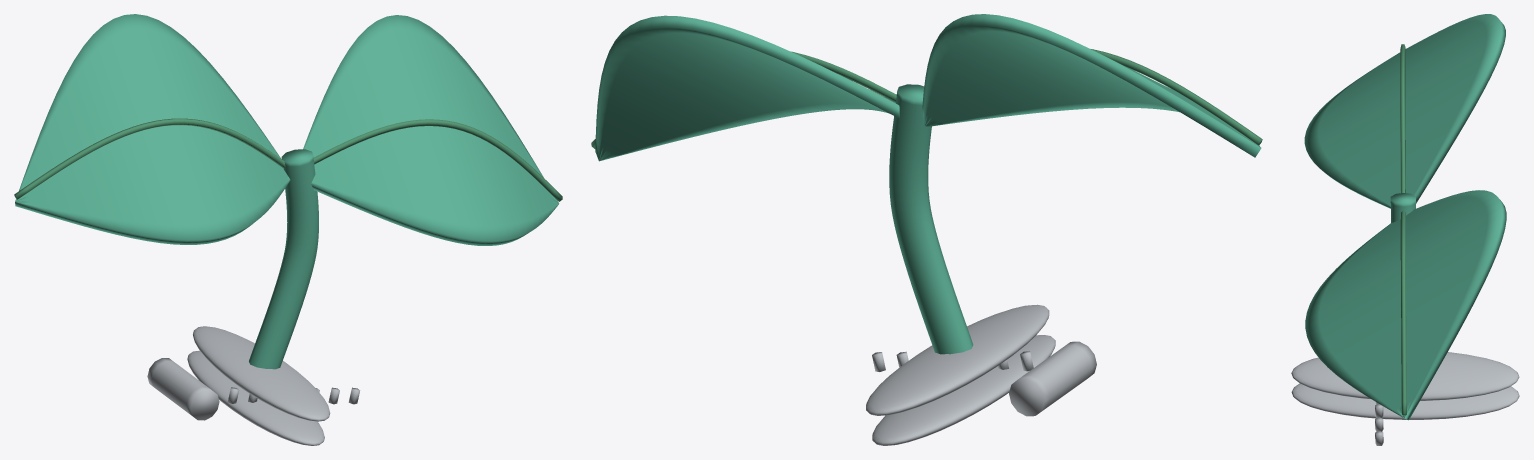
Rendered from Masculine-curly-top--cap-sprout.glb.
3 views of the same model, side by side, from view 1: azimuth 30°, elevation 25°; view 2: azimuth 150°, elevation 25°; view 3: azimuth 270°, elevation 25° (orthographic). The views are drawn at different scales.
Parts seen in each view (by area): view 1: 226 extra / Accessory / mint226, 226 extra / Sprout / clip silver235, 226 extra / Sprout / leaf vein235; view 2: 226 extra / Accessory / mint226, 226 extra / Sprout / clip silver235, 226 extra / Sprout / leaf vein235; view 3: 226 extra / Accessory / mint226, 226 extra / Sprout / clip silver235, 226 extra / Sprout / leaf vein235.
Boxes of the visible parts, x1,y1,x2,y2 form: 226 extra / Accessory / mint226: (15, 14, 559, 369); 226 extra / Sprout / clip silver235: (147, 326, 360, 445); 226 extra / Sprout / leaf vein235: (14, 118, 562, 201); 226 extra / Accessory / mint226: (595, 14, 1261, 354); 226 extra / Sprout / clip silver235: (866, 304, 1096, 445); 226 extra / Sprout / leaf vein235: (591, 49, 1262, 148); 226 extra / Accessory / mint226: (1304, 14, 1506, 420); 226 extra / Sprout / clip silver235: (1291, 352, 1519, 445); 226 extra / Sprout / leaf vein235: (1400, 44, 1406, 415).
Bounding box in the file's own units: 0.2643 × 0.1748 × 0.104.
